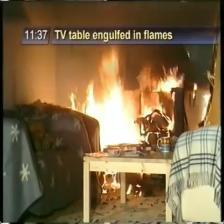fire: (84, 51, 141, 146), (144, 76, 180, 121)
